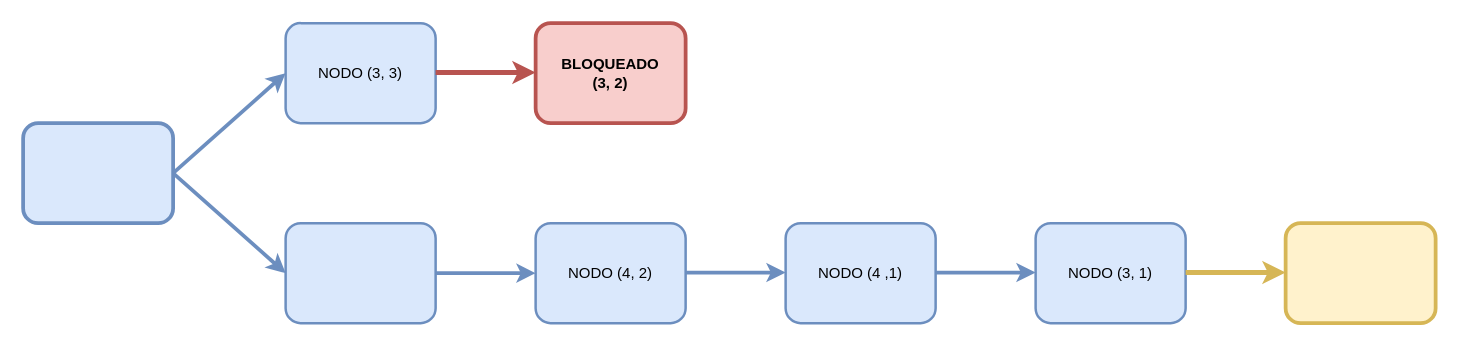
The diagram is 1459 pixels wide and 346 high, and some of its shapes have lost their labels. The centre of each missing label's shape, as x and y in pixels:
INICIO (3, 4) f= 4: the point at 97,172
META (2, 1): the point at 1360,272
NODO (4 , 3) f = 7: the point at 360,272
